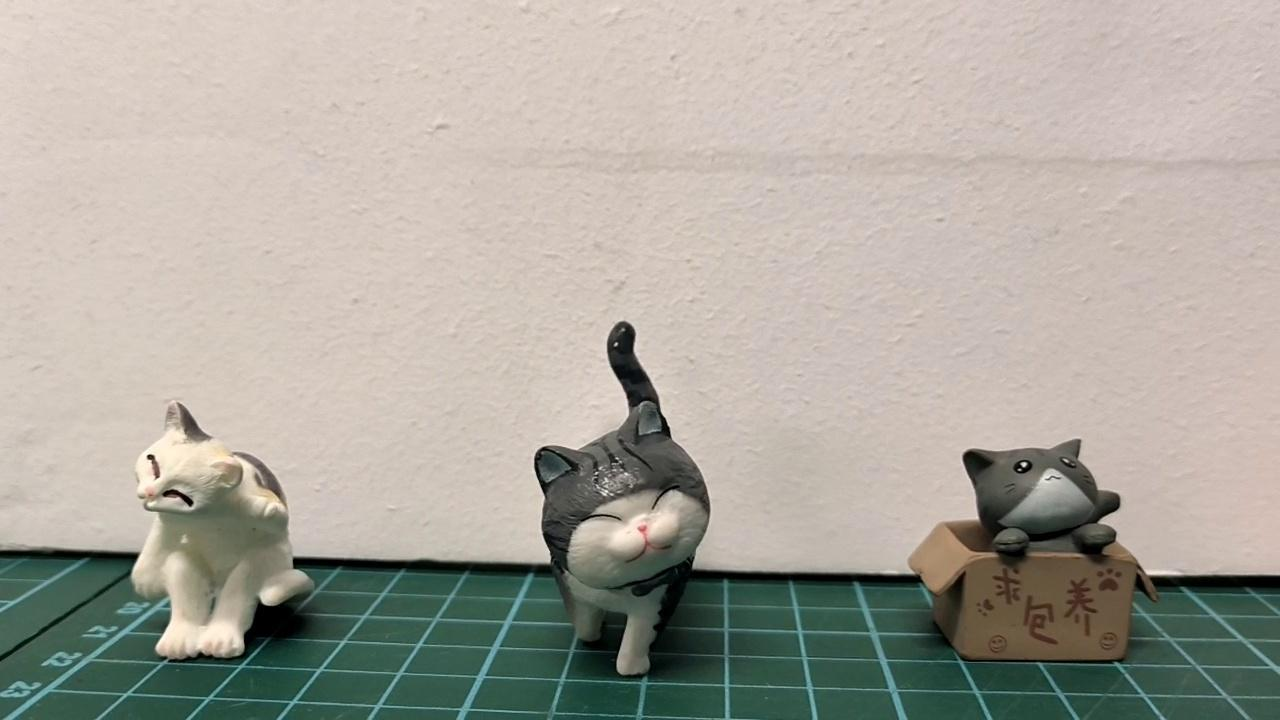pet: (531, 318, 709, 674), (133, 396, 315, 657), (961, 436, 1120, 553)
